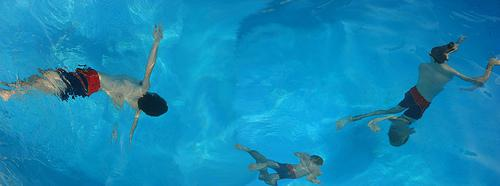human: (0, 21, 178, 134), (334, 34, 500, 148), (233, 142, 328, 186)
